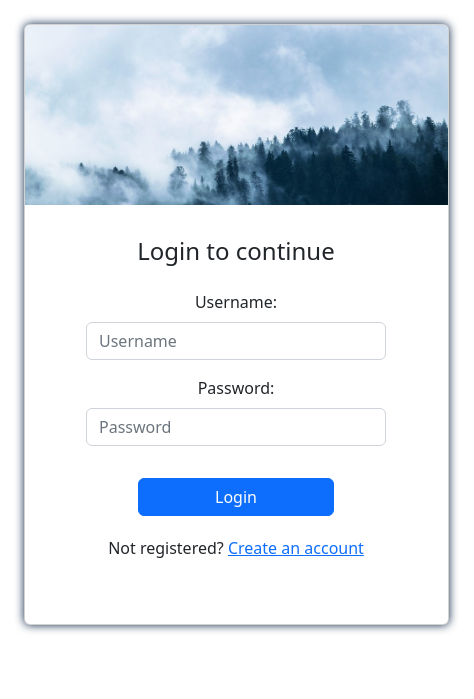
Login form - Unsuccessful login
The width and height of the screenshot is (474, 699).
Note: fill in the form with incorrect username and password
Type "wrongusername" into the field with test id "login_user" at (236, 341), box [86,322,386,360]
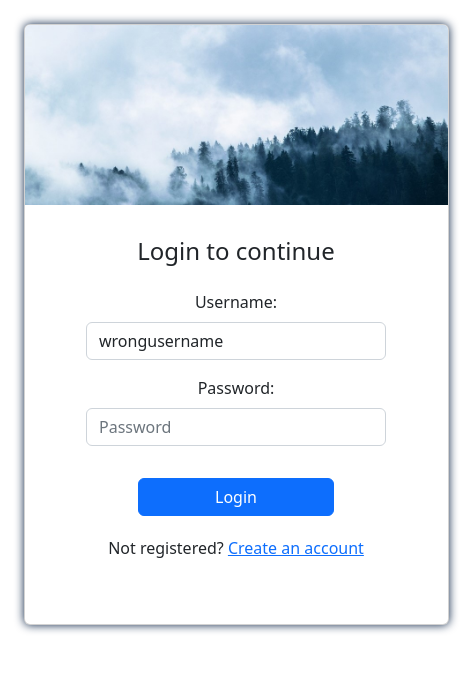
Type "wrongpassword" into the password field with test id "password_user" at (236, 427), box [86,408,386,446]
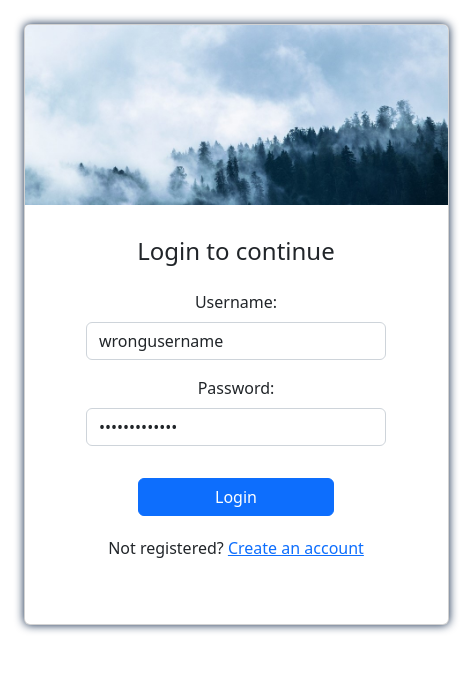
Note: click the login button
Click the button with test id "loginbutton" at (236, 497), box [138,478,334,516]
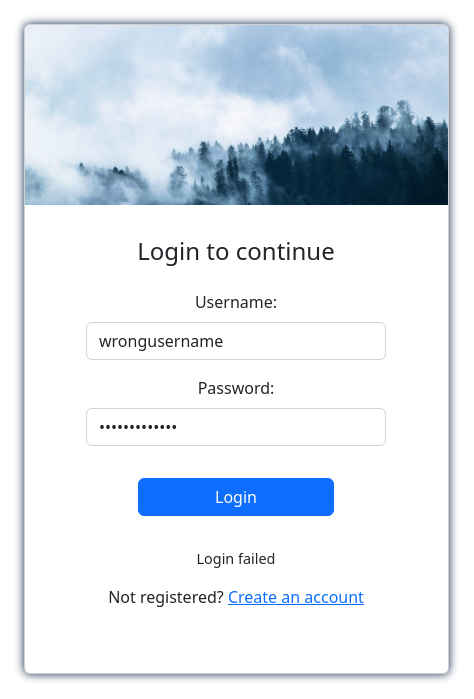
Check: the text with test id "response_text" reads "Login failed", box [197,549,276,568]
